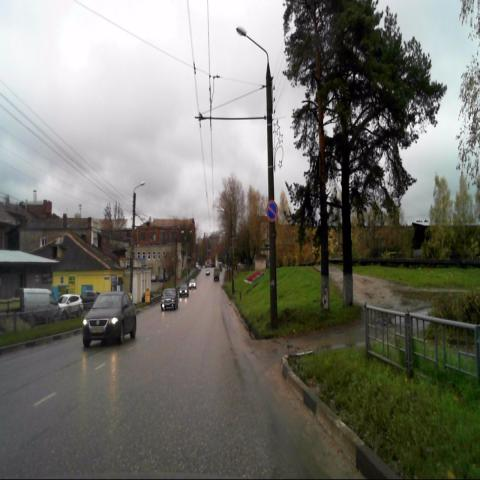3_28: (266, 199, 278, 223)
